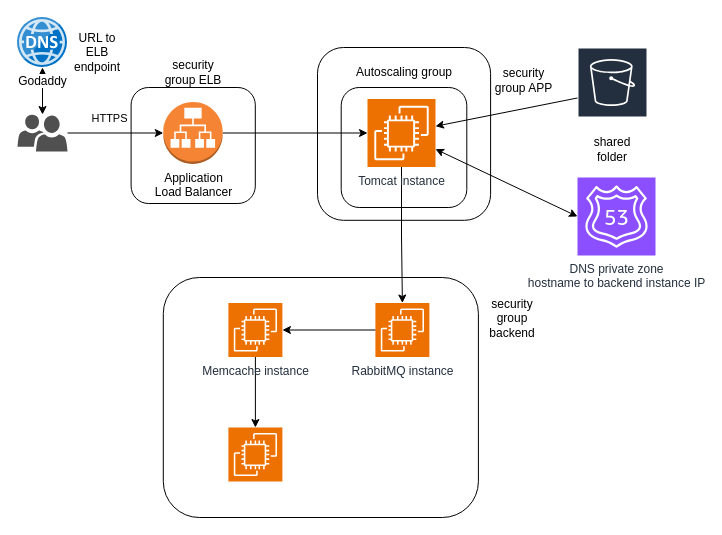
Some shapes in this 722 by 535 pixel diagram are drawn without their labels. Here are the shapes that lost their labels. From the top down, the centre of each, then its label:
At pixel 612 90: "Amazon S3".
At pixel 42 132: "User".
At pixel 254 454: "Mysql instance".
